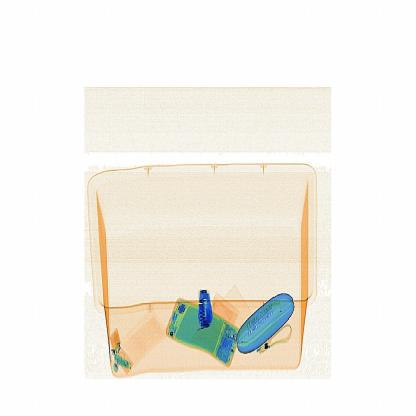scissors: (192, 278, 221, 335)
